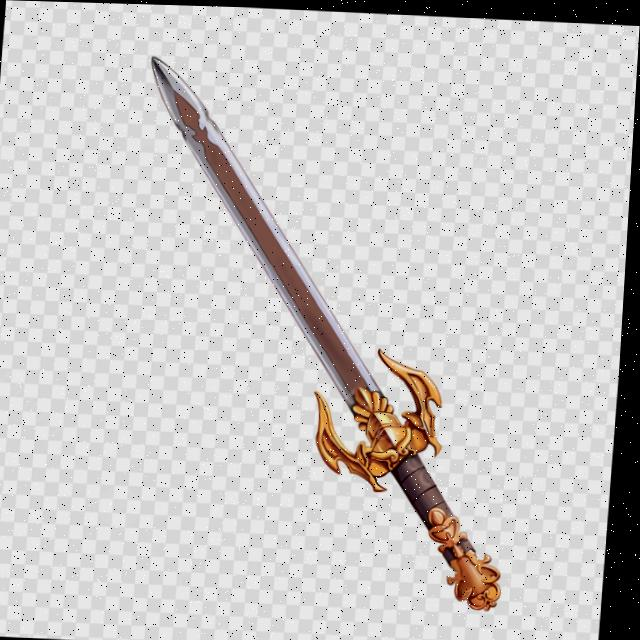knife: (111, 49, 541, 609)
